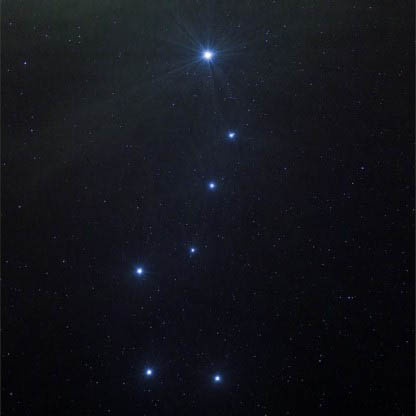Ursa Major: (190, 40, 229, 75), (221, 120, 246, 149), (137, 357, 161, 387), (123, 256, 150, 282), (178, 237, 203, 265), (197, 175, 222, 201), (206, 362, 229, 390)
